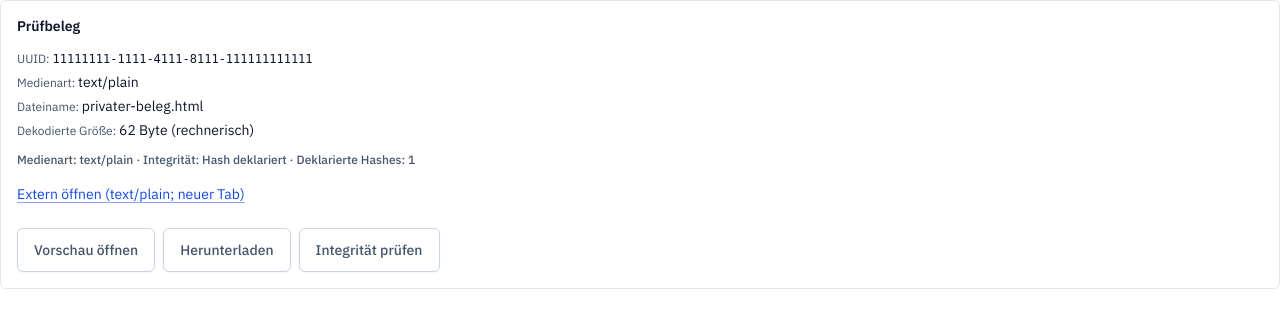
rendert text/plain ausschließlich als Textknoten, auch mit aktiven Inhalten
The width and height of the screenshot is (1280, 334).
Click the button "Vorschau öffnen" at (86, 250), box [17,228,155,272]
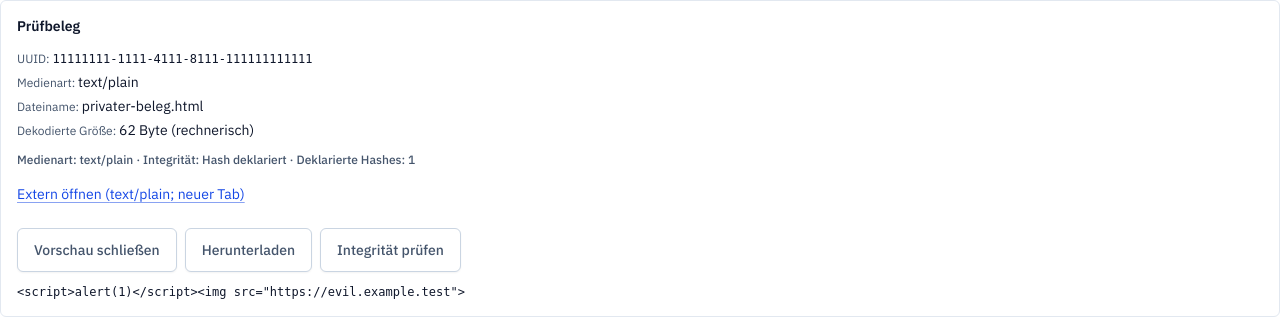
Expected: the text "<script>alert(1)</script><img src=\"https://evil.example.test\">" is shown, [17,285,465,299]
